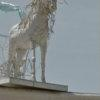Statue: (7, 2, 66, 83)
